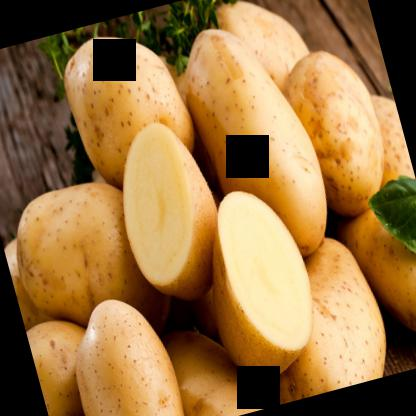potato: (169, 8, 341, 270), (184, 178, 332, 391), (235, 229, 396, 405), (102, 116, 235, 310), (0, 172, 153, 338), (56, 20, 202, 188), (272, 38, 398, 224), (53, 284, 192, 415)
